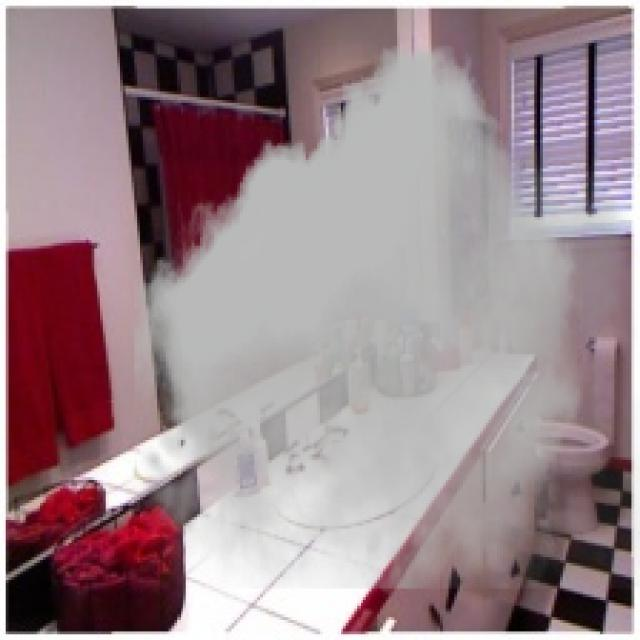smoke: (126, 46, 637, 591)
